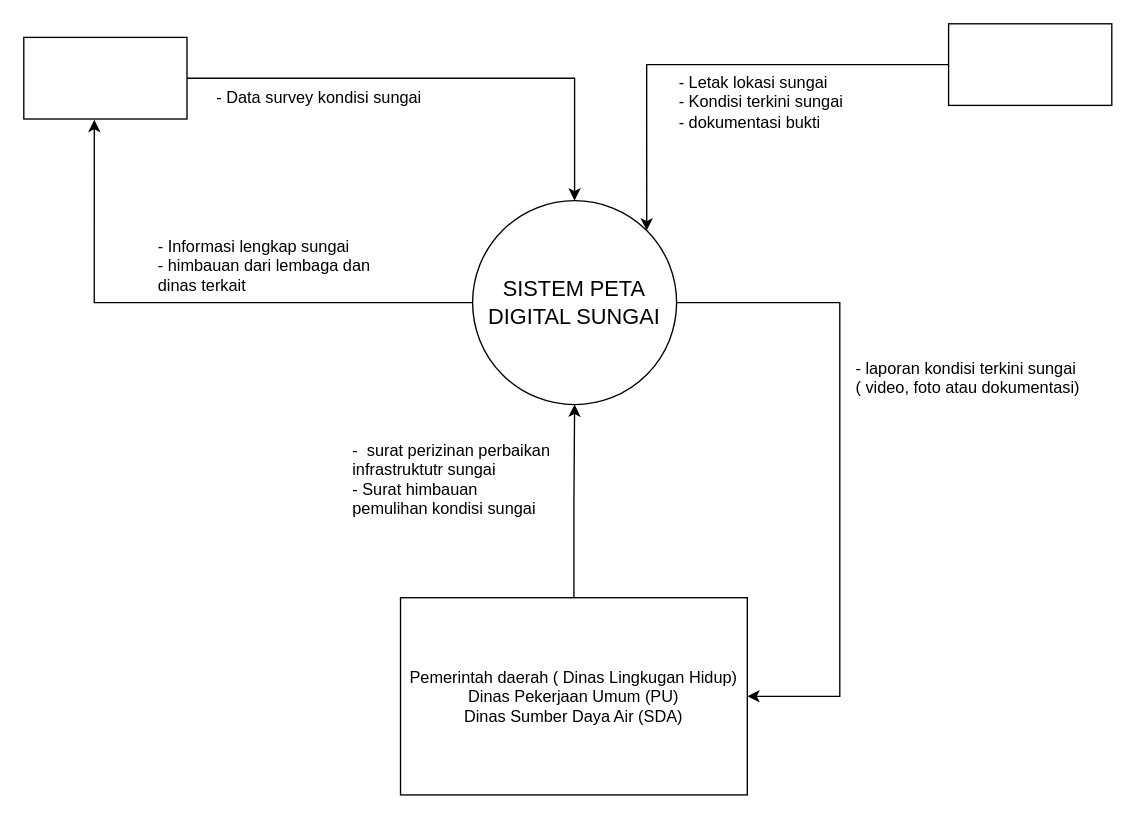
This 1136x819 diagram has some shape labels left out. The shapes that lost their labels are listed below. From the top down, each one's centre as x and y in pixels, then its label:
pixel 104 77: Warga Sekitar
pixel 1029 63: sungai
